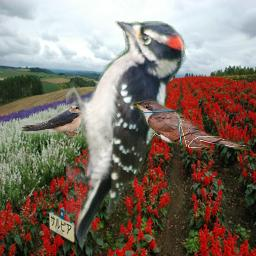Cuckoo: (129, 97, 252, 157)
Swallow: (20, 102, 84, 137)
Woodpecker: (66, 14, 188, 248)
